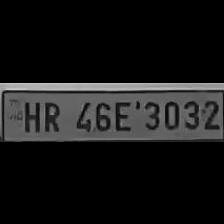0: (160, 97, 180, 129)
2: (200, 96, 220, 128)
3: (139, 97, 161, 130), (180, 96, 200, 128)
4: (68, 98, 92, 132)
6: (90, 98, 112, 132)
E: (110, 97, 134, 132)
H: (20, 98, 40, 132)
R: (38, 97, 62, 133)
